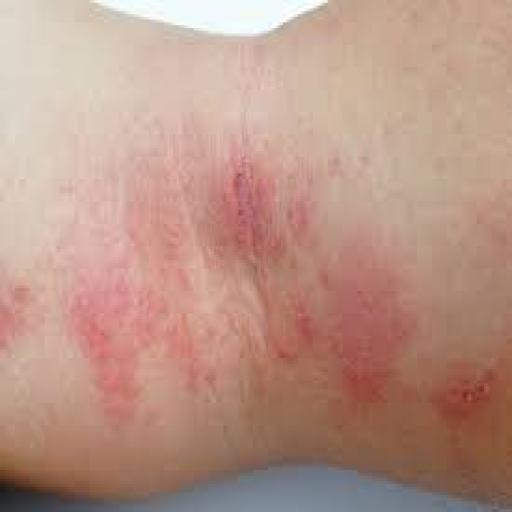Skin_Lesion: (195, 110, 369, 284), (66, 268, 156, 425), (435, 357, 499, 429), (348, 320, 380, 384), (140, 186, 173, 236), (293, 300, 319, 342), (0, 278, 12, 364), (171, 319, 192, 356)
